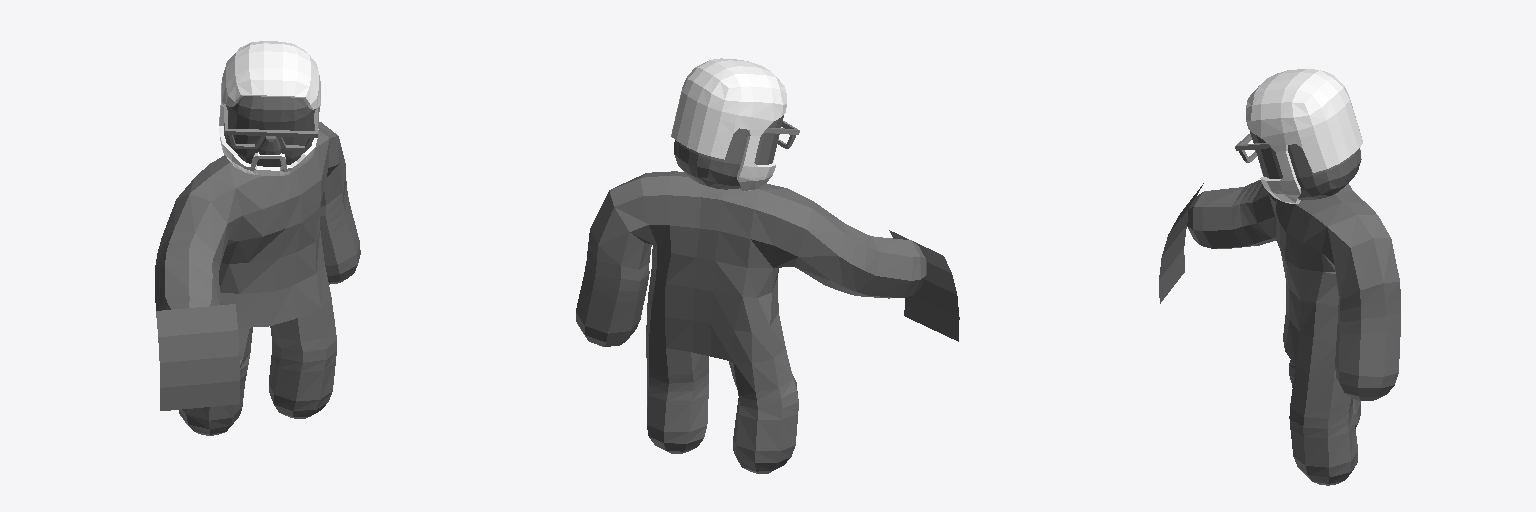
Rendered from CartoonFear.obj.
3 renders of one model, left to right at view 1: azimuth 30°, elevation 25°; view 2: azimuth 150°, elevation 25°; view 3: azimuth 270°, elevation 25°, orthographic.
Parts seen in each view (by area): view 1: body, textureEditorIsolateSelectSet Paper, hair, head, glasses; view 2: body, hair, textureEditorIsolateSelectSet Paper, head; view 3: body, hair, head, textureEditorIsolateSelectSet Paper.
Part boxes in pixels (x1,y1,x2,y2): body: (155,122,360,435); textureEditorIsolateSelectSet Paper: (156,304,239,410); hair: (219,41,320,175); head: (224,96,315,166); glasses: (224,104,317,150); body: (576,171,926,473); hair: (671,58,786,191); textureEditorIsolateSelectSet Paper: (889,230,959,341); head: (674,115,783,189); body: (1187,180,1400,485); hair: (1246,69,1362,203); head: (1250,131,1361,200); textureEditorIsolateSelectSet Paper: (1159,183,1203,303).
Size of the model in its own units: 10.09 by 13.03 by 7.36.